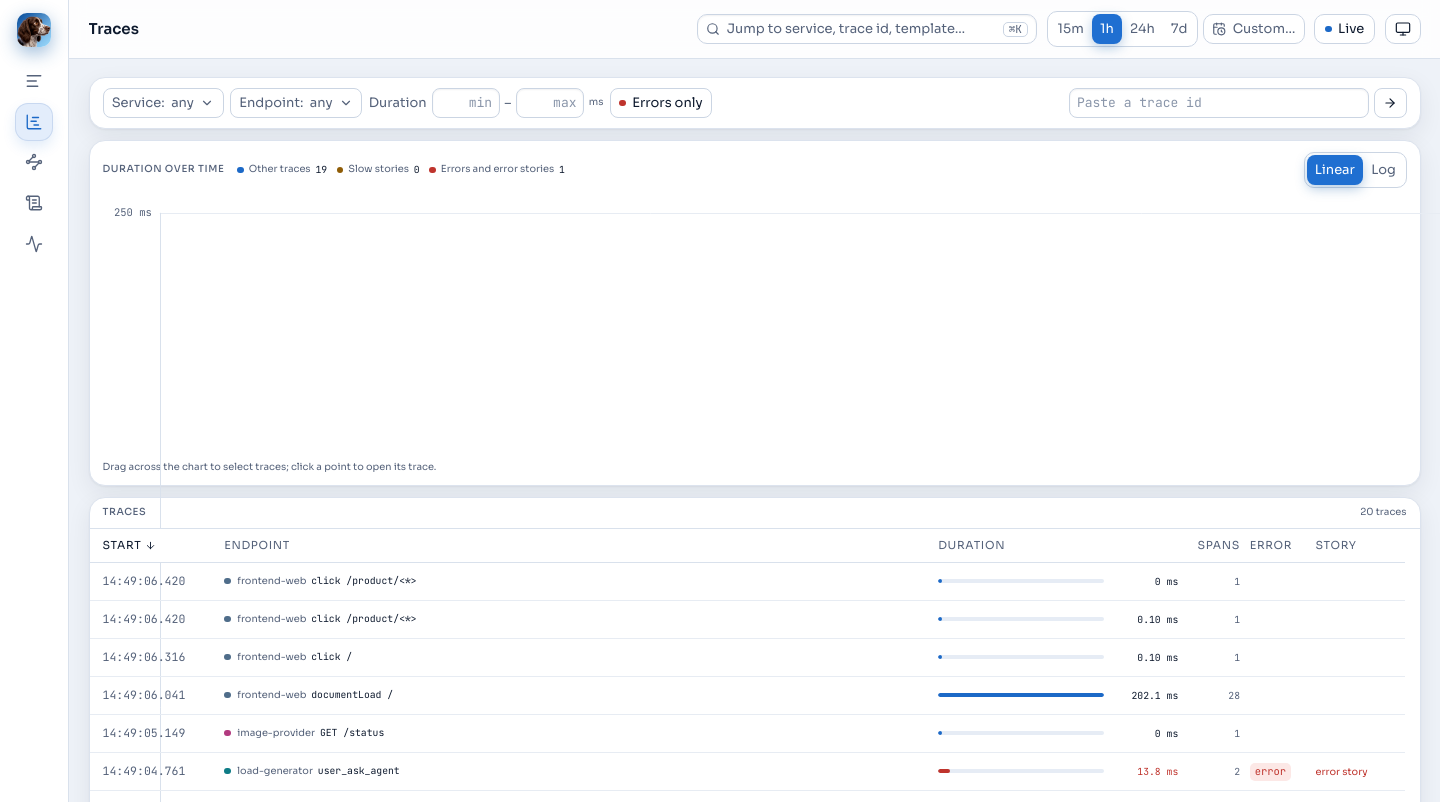
traces explorer › rejects a min above max inline without querying
The width and height of the screenshot is (1452, 802).
Type "500" into the field named "Min duration (ms)" at (466, 103), box [432,88,500,118]
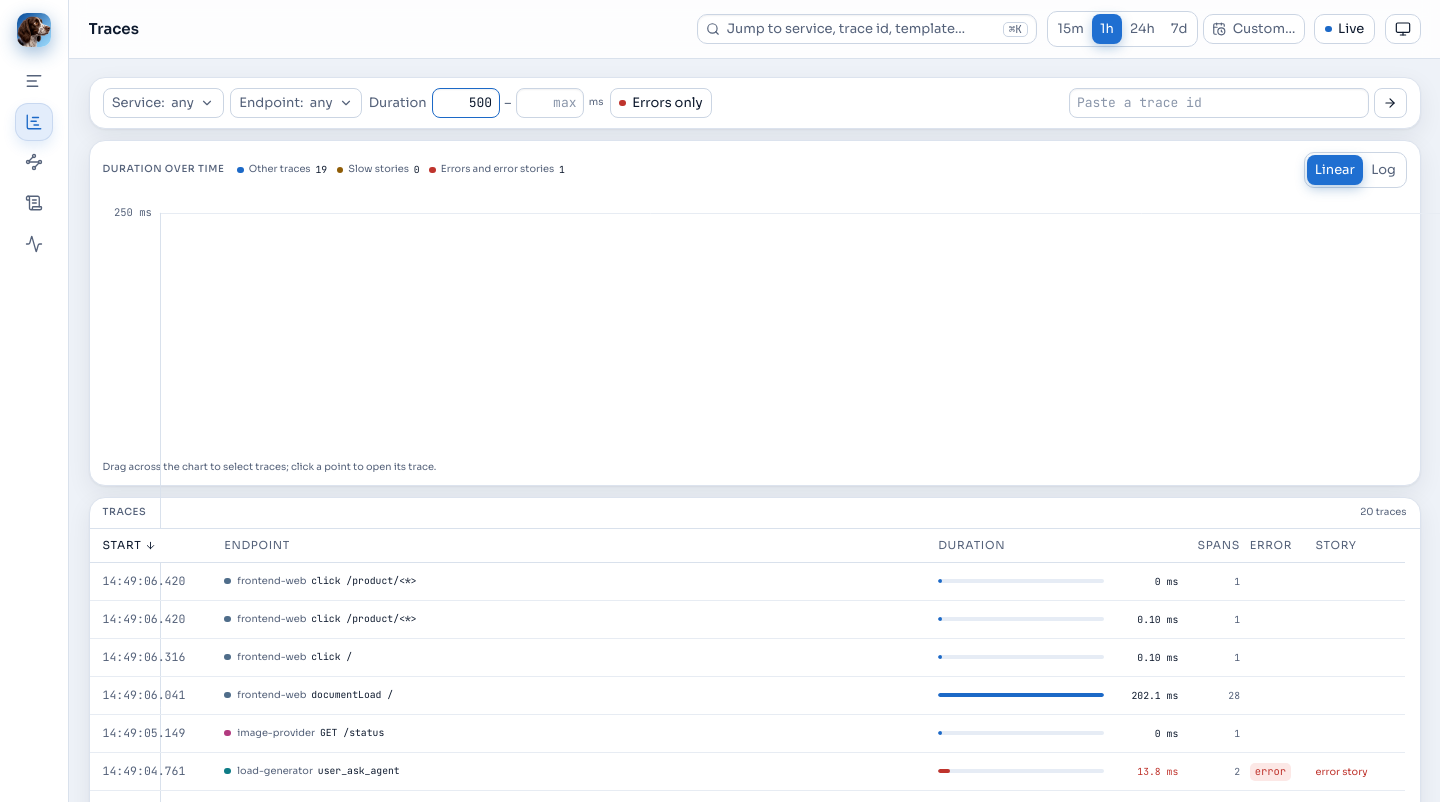
Type "5" into the field named "Max duration (ms)" at (550, 103), box [516,88,584,118]
Then press Enter
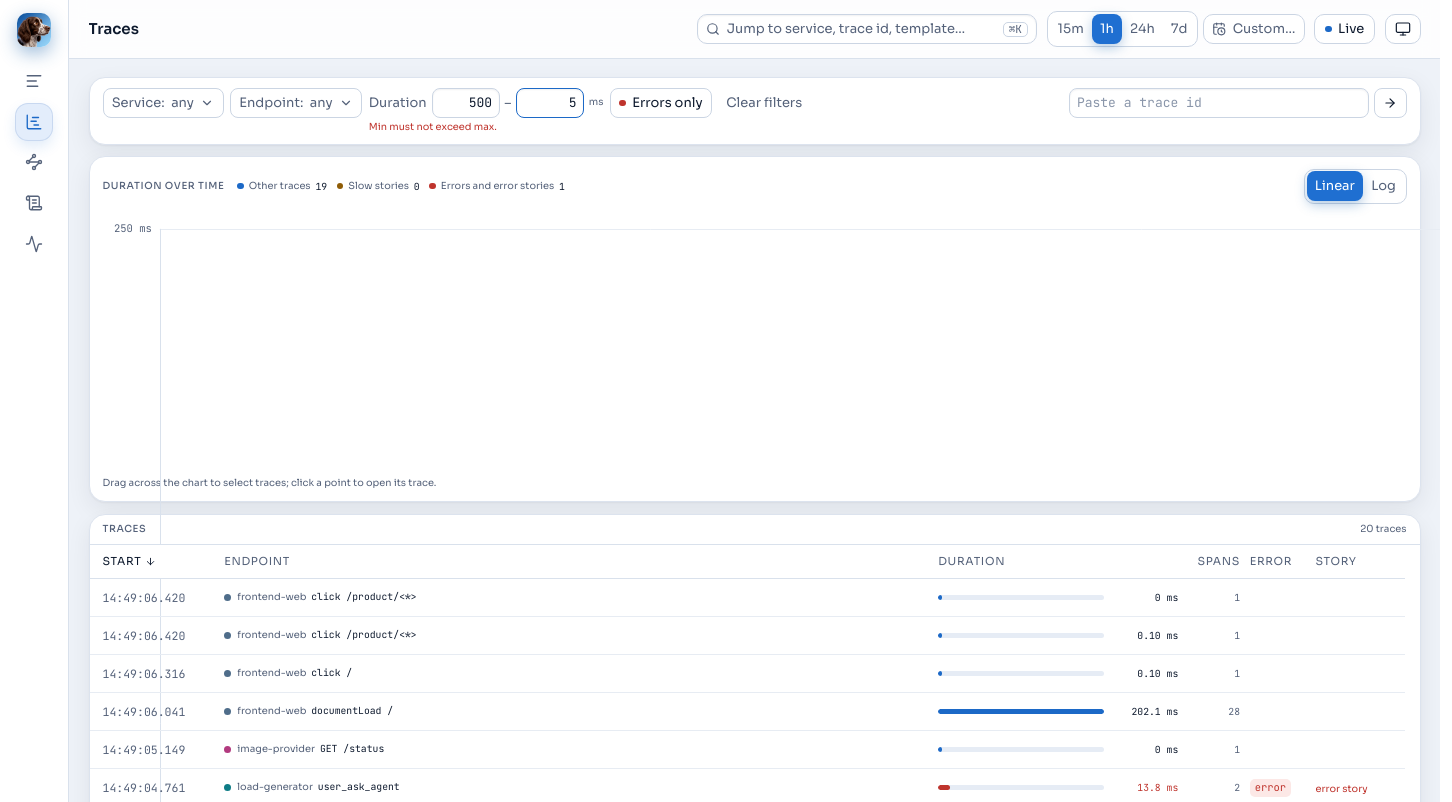
Check: the message reads "Min must not exceed max.", box [369,121,497,133]
